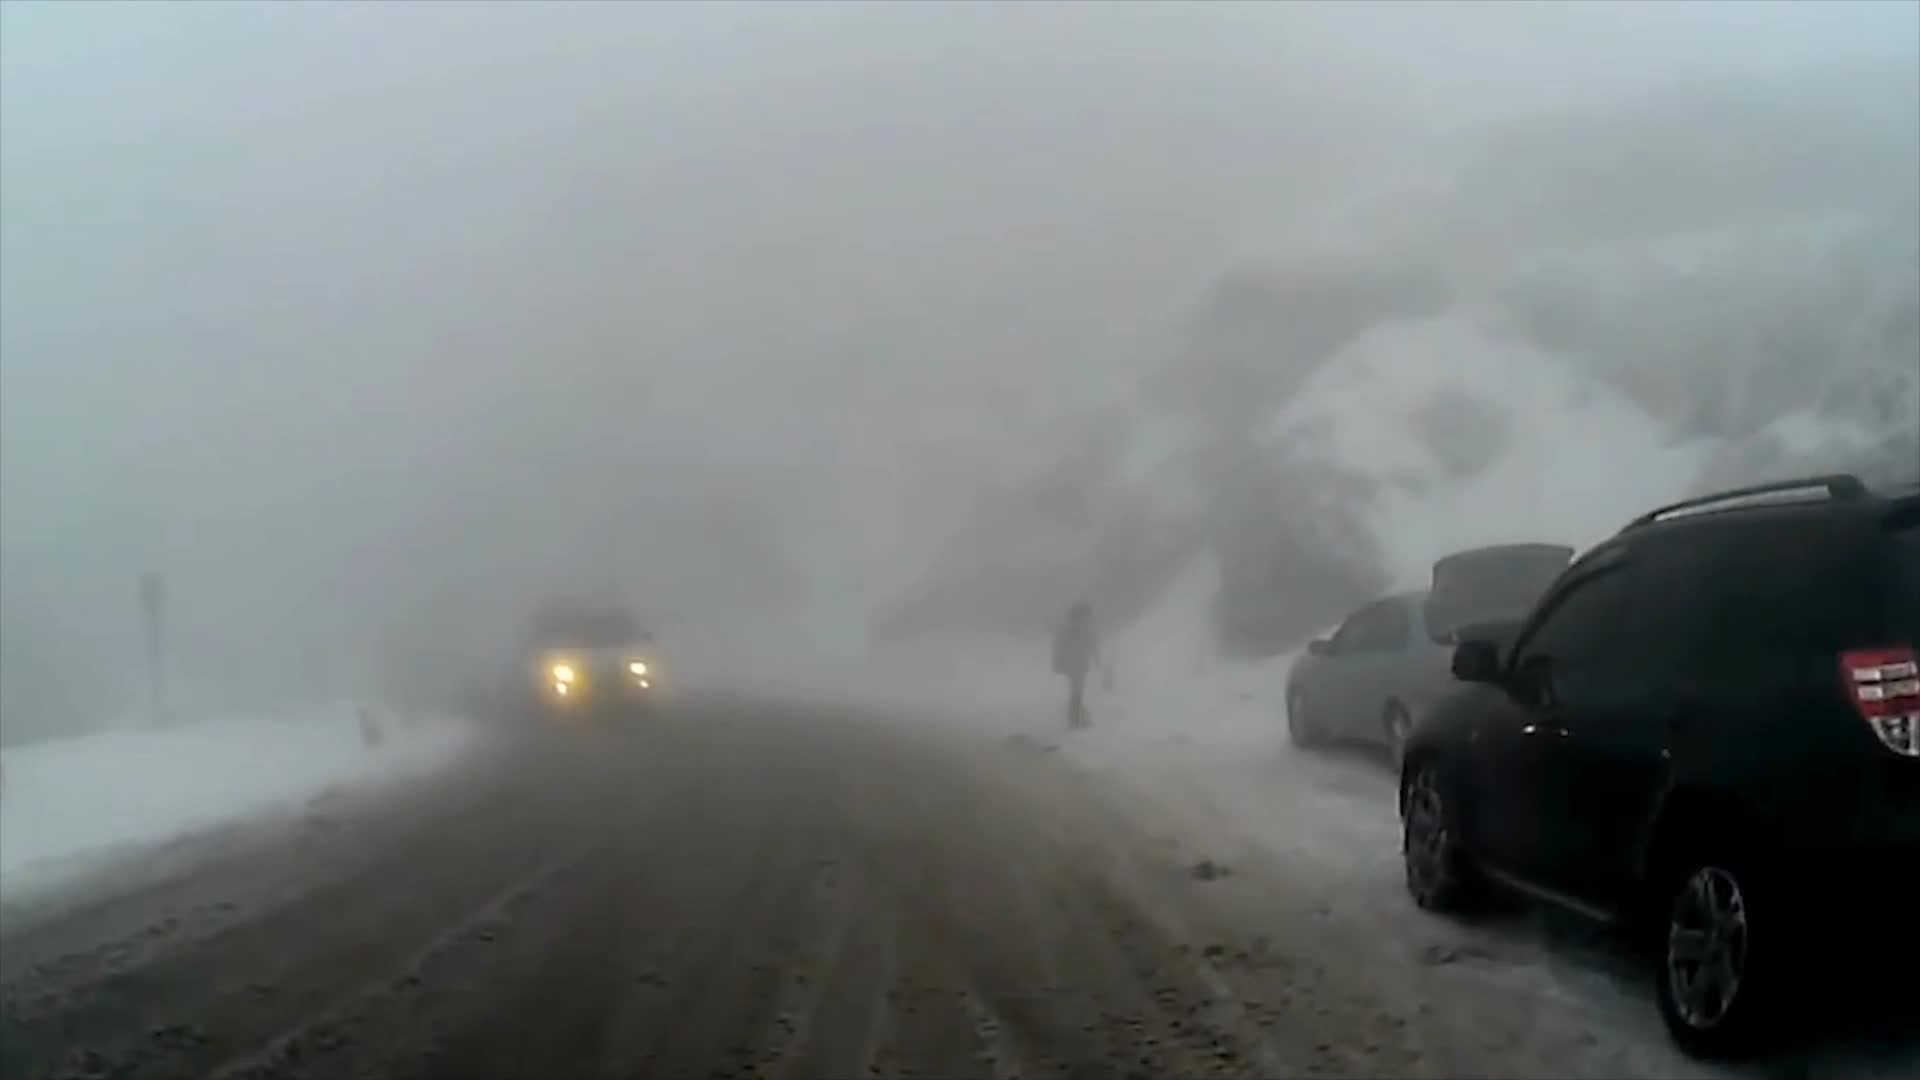pedestrian: (1053, 603, 1102, 728)
vehicle: (1397, 471, 1920, 1068), (1281, 542, 1622, 778), (523, 587, 661, 723)
